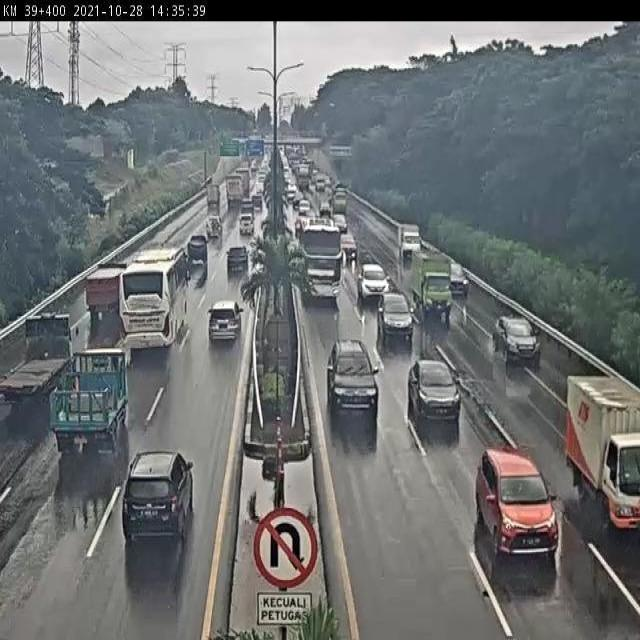Bus: (120, 250, 190, 346), (296, 217, 342, 298)
Car: (476, 444, 563, 558), (123, 452, 195, 537), (330, 339, 379, 416), (409, 359, 462, 422), (495, 316, 542, 362), (378, 296, 414, 342), (210, 298, 242, 343), (358, 264, 391, 300), (188, 233, 210, 263), (452, 256, 468, 294), (227, 249, 250, 271), (239, 208, 256, 236), (339, 234, 357, 260), (206, 215, 222, 237), (333, 212, 348, 231), (319, 200, 334, 217), (313, 174, 327, 192), (251, 194, 264, 209), (286, 188, 298, 204), (298, 199, 310, 214), (256, 169, 268, 179), (283, 176, 294, 186), (284, 165, 293, 177)
Truck: (565, 372, 640, 532), (0, 315, 76, 403), (51, 349, 128, 434), (411, 253, 454, 312), (86, 261, 124, 304), (397, 224, 421, 256), (225, 173, 247, 205), (295, 163, 310, 190)
Van: (207, 185, 220, 205)
